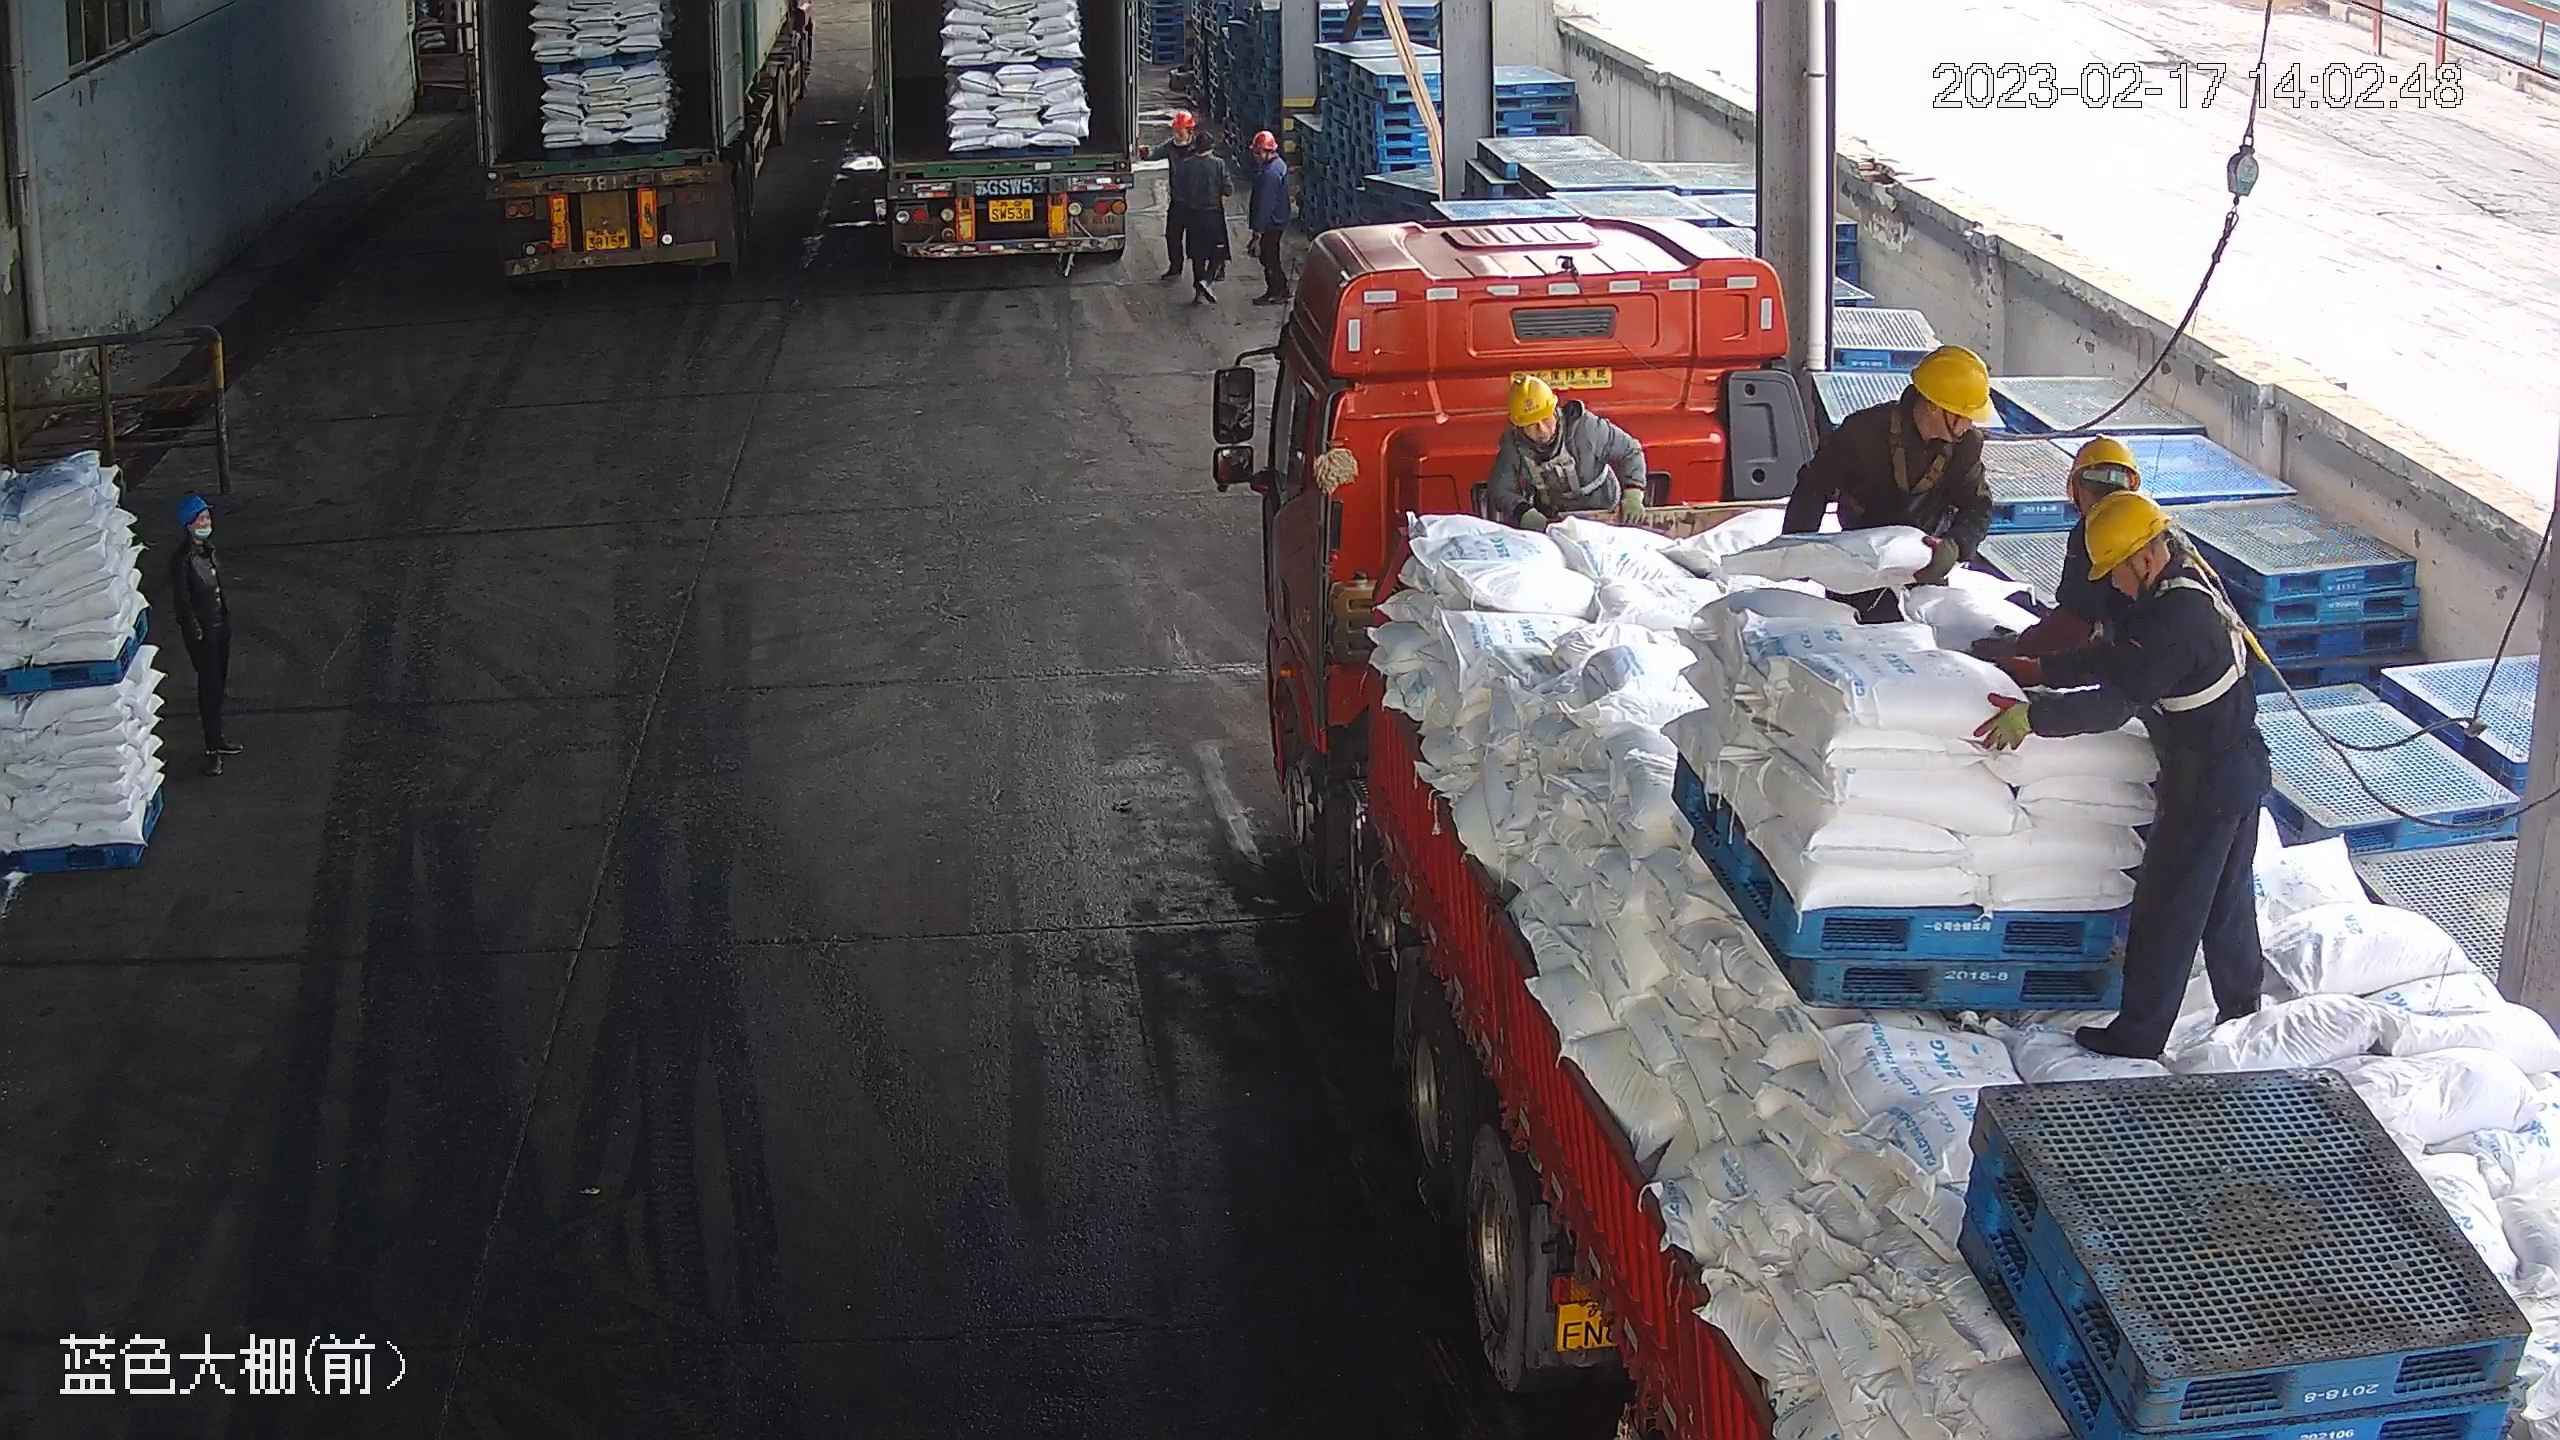belt: (2149, 559, 2266, 714), (1879, 426, 1954, 502), (1522, 441, 1589, 493)
head: (2065, 489, 2239, 669), (1843, 343, 1997, 483), (1491, 374, 1609, 463), (169, 498, 225, 584), (1158, 110, 1214, 169), (1246, 130, 1295, 192)
helmet: (2076, 487, 2175, 582), (1911, 345, 2000, 423), (2064, 431, 2144, 493), (1502, 373, 1561, 425), (176, 497, 210, 530), (1249, 130, 1278, 155), (1171, 110, 1200, 132)
people: (1986, 487, 2280, 1063), (1479, 374, 1655, 532), (172, 494, 244, 778), (1154, 110, 1224, 303), (1243, 128, 1295, 306)
truck: (1230, 186, 2560, 1439), (475, 1, 821, 280), (831, 4, 1170, 286)
